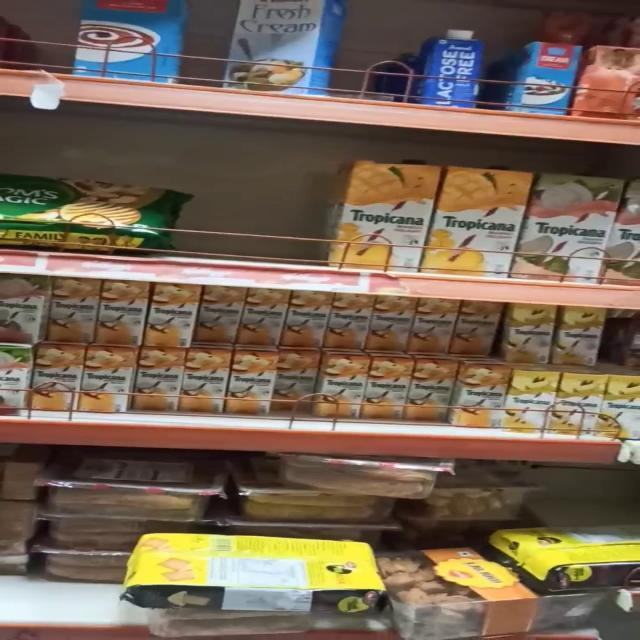Tropicana: (320, 155, 436, 270), (520, 163, 615, 285), (431, 156, 520, 280), (36, 275, 104, 345), (305, 356, 363, 424), (129, 349, 184, 418), (176, 350, 230, 420), (499, 298, 557, 362), (96, 274, 148, 340), (551, 302, 605, 362), (31, 347, 82, 410), (265, 349, 317, 410), (454, 366, 500, 434), (193, 283, 243, 345), (146, 282, 194, 346), (80, 346, 129, 408), (240, 290, 289, 351), (224, 357, 272, 418), (453, 298, 501, 358), (361, 296, 412, 352), (501, 378, 558, 428), (324, 295, 372, 351), (366, 362, 409, 424), (410, 362, 450, 424), (414, 300, 456, 357), (562, 380, 602, 432), (288, 294, 324, 351), (602, 381, 640, 432)
